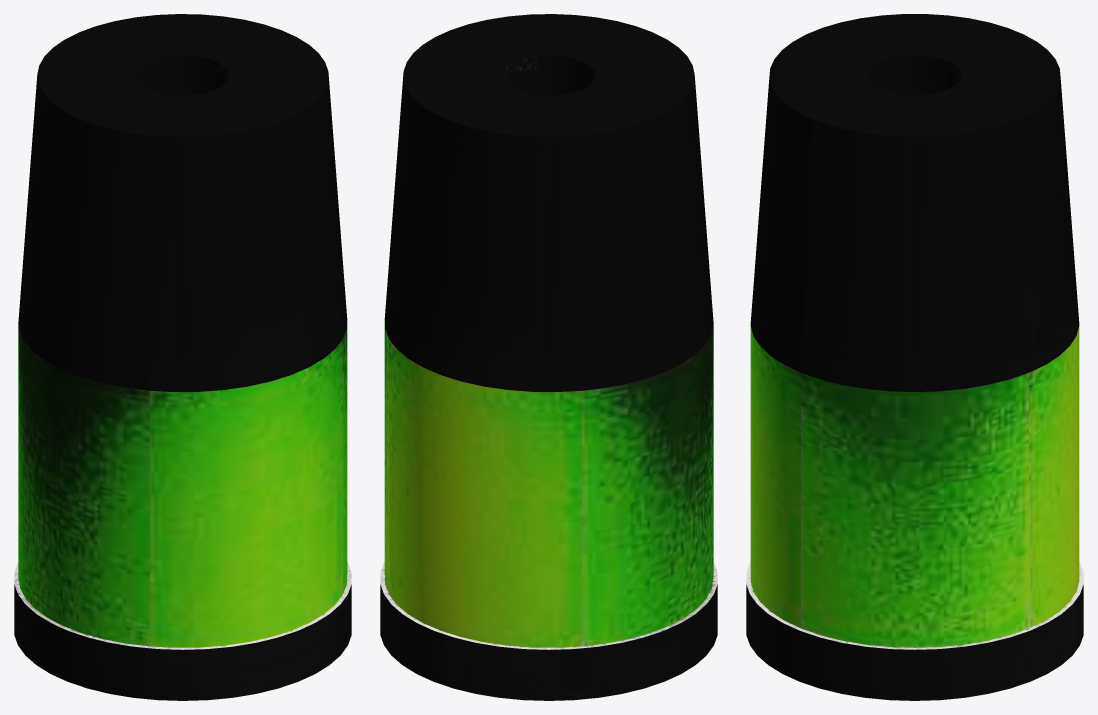
File: wmb_green.glb
The picture shows the model from 3 angles, left to right: view 1: azimuth 30°, elevation 25°; view 2: azimuth 150°, elevation 25°; view 3: azimuth 270°, elevation 25°; orthographic projection.
Parts seen in each view (by area): view 1: Asset3DLoader.sceneRoot; view 2: Asset3DLoader.sceneRoot; view 3: Asset3DLoader.sceneRoot.
Boxes of the visible parts, x1=… form: Asset3DLoader.sceneRoot: x1=14, y1=14, x2=351, y2=700; Asset3DLoader.sceneRoot: x1=380, y1=14, x2=717, y2=700; Asset3DLoader.sceneRoot: x1=746, y1=14, x2=1083, y2=700.
Size of the model in its own units: 72 by 130 by 71.8.
Materials: 1 (1 with a texture image).
